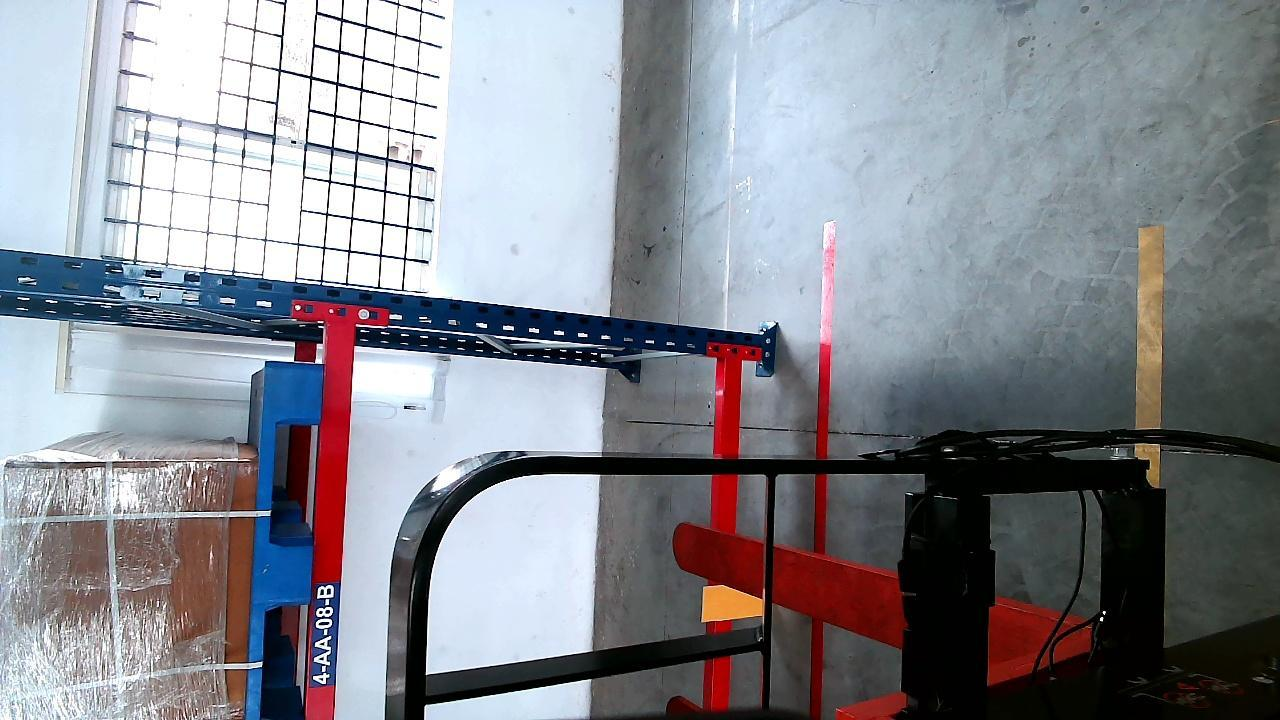red_line: (815, 224, 836, 481)
yellow_line: (1137, 221, 1163, 450)
